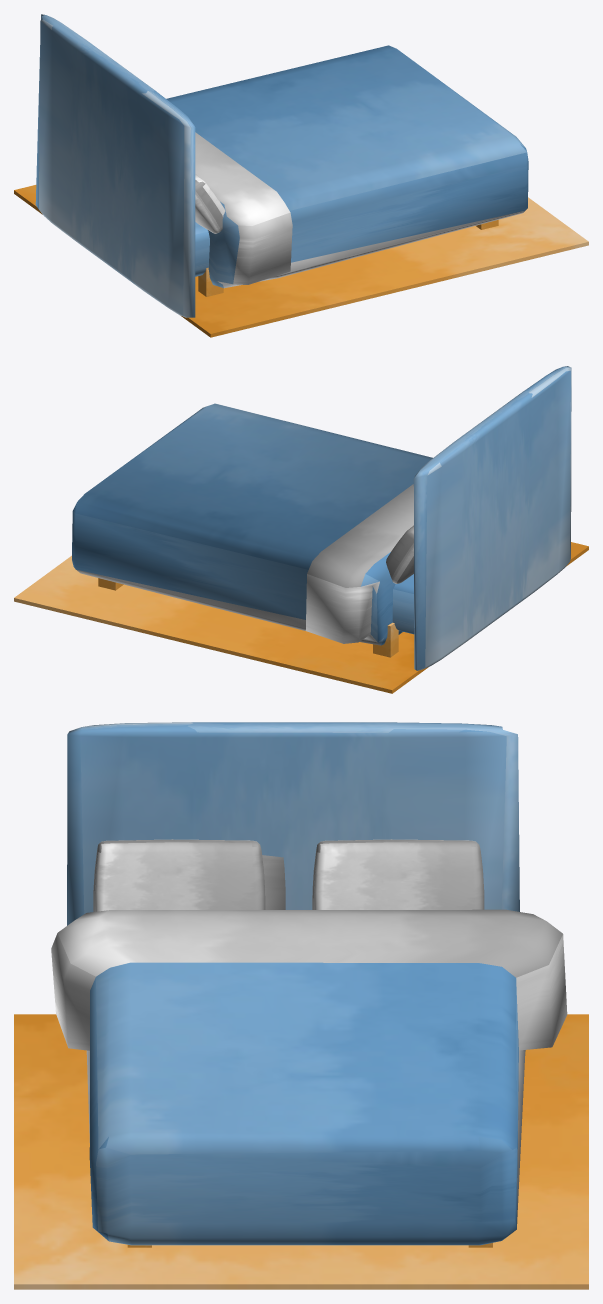
The model's file is Obj_Bed.gltf.
The picture shows the model from 3 angles, top to bottom: view 1: azimuth 30°, elevation 25°; view 2: azimuth 150°, elevation 25°; view 3: azimuth 270°, elevation 25°; orthographic projection. The views are drawn at different scales.
Visible parts, largest first — view 1: Obj_Bed; view 2: Obj_Bed; view 3: Obj_Bed.
Boxes of the visible parts, x1,y1,x2,y2 form: Obj_Bed: (14, 14, 588, 337); Obj_Bed: (14, 366, 588, 693); Obj_Bed: (14, 722, 588, 1289).
Size of what is drawn, in the model's own units: 3.72 by 1.86 by 3.29.
Materials: 1 (1 with a texture image).
